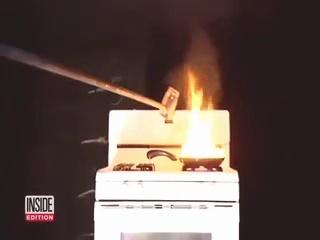Fire: (177, 78, 220, 164)
